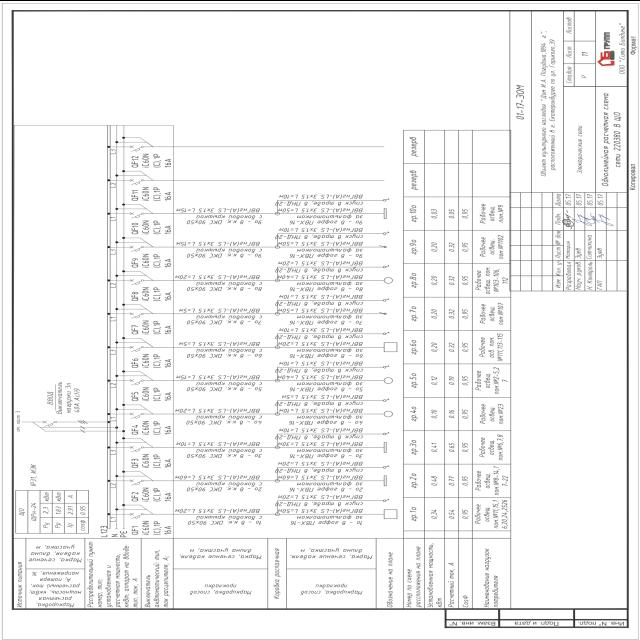-: (56, 379, 82, 415), (28, 461, 38, 521), (140, 384, 173, 402), (142, 318, 175, 336), (140, 150, 173, 168), (141, 285, 174, 303), (140, 418, 173, 436), (141, 485, 173, 503), (142, 351, 174, 369), (141, 184, 173, 202), (140, 518, 172, 536), (142, 218, 174, 236), (142, 252, 174, 270), (142, 452, 172, 470)
QF: (129, 344, 145, 352), (129, 276, 145, 284), (128, 376, 144, 384), (128, 310, 144, 318), (130, 444, 146, 452), (128, 210, 144, 218), (128, 243, 144, 251), (128, 177, 144, 185), (128, 144, 144, 152), (129, 511, 145, 519), (129, 478, 145, 486), (128, 411, 144, 418), (41, 419, 57, 426)
